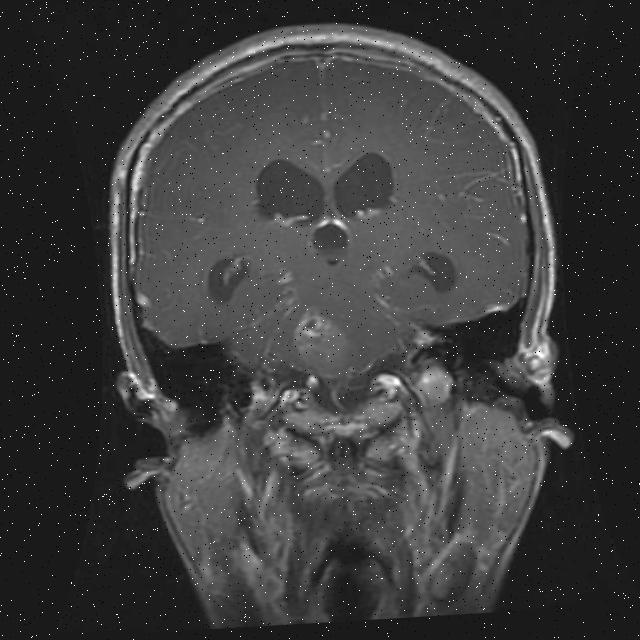Glioma: (291, 304, 353, 380)
